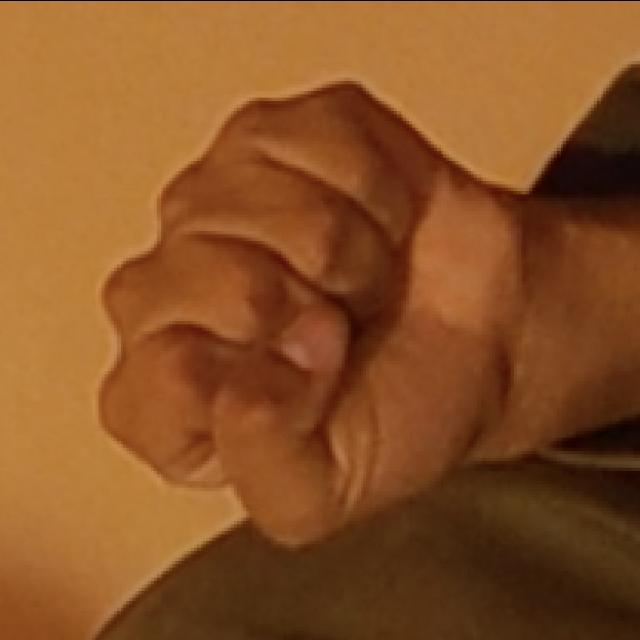S: (91, 72, 525, 554)
